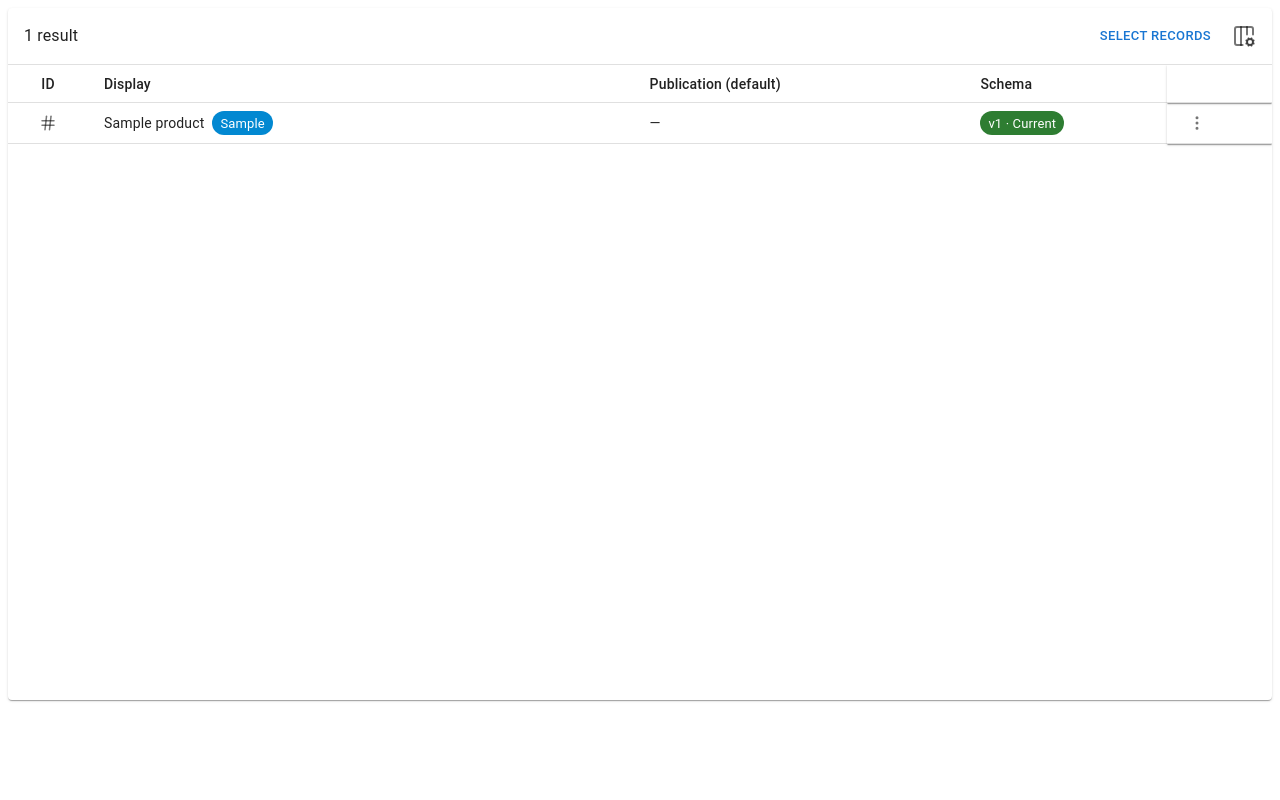
it: ExplorerResultsTable › keeps the confirmation open with an error when deletion fails
The image size is (1280, 800).
What coordinates should you click on to do the following:
click the button named "Record actions for Sample product"
I would click on:
 (1197, 123)
Its box is [1183,109,1211,137].
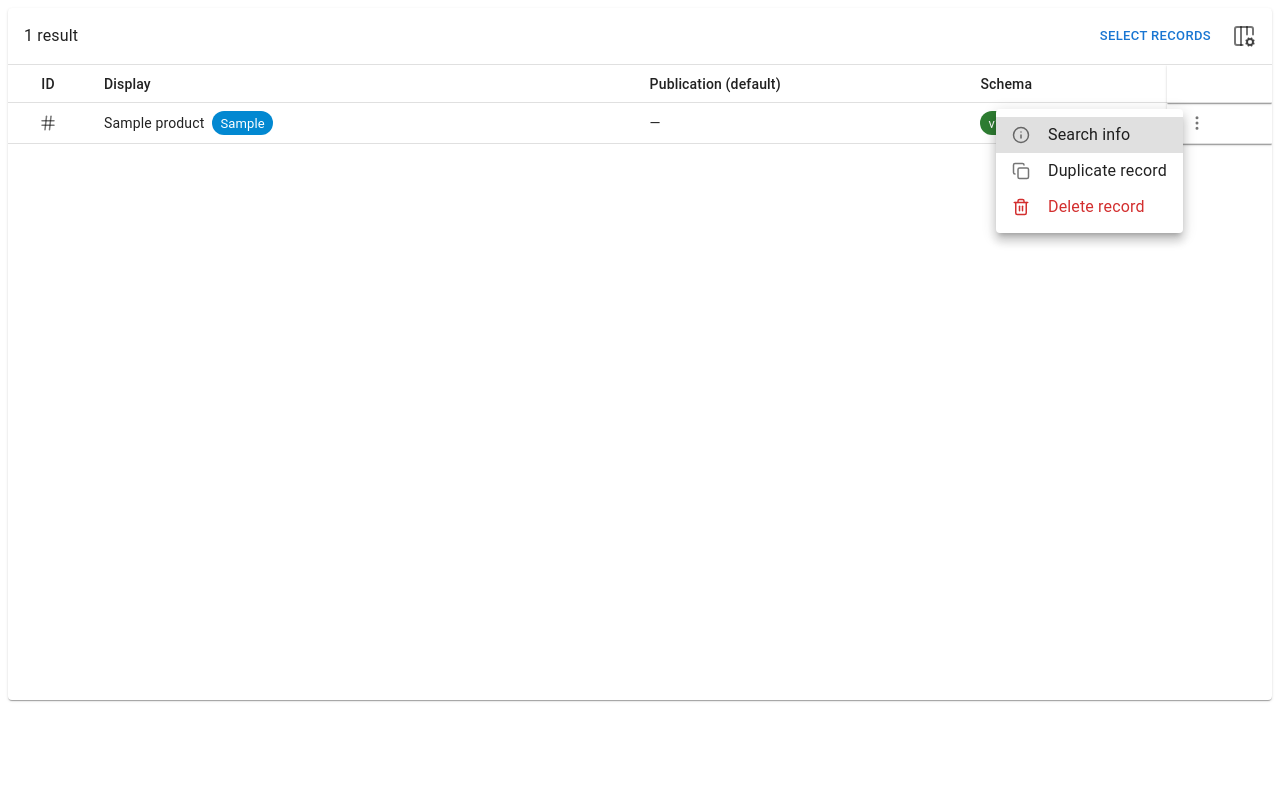
What coordinates should you click on to do the following:
click the menu item "Delete record"
I would click on:
 (1078, 206)
Its box is [1012,197,1145,216].
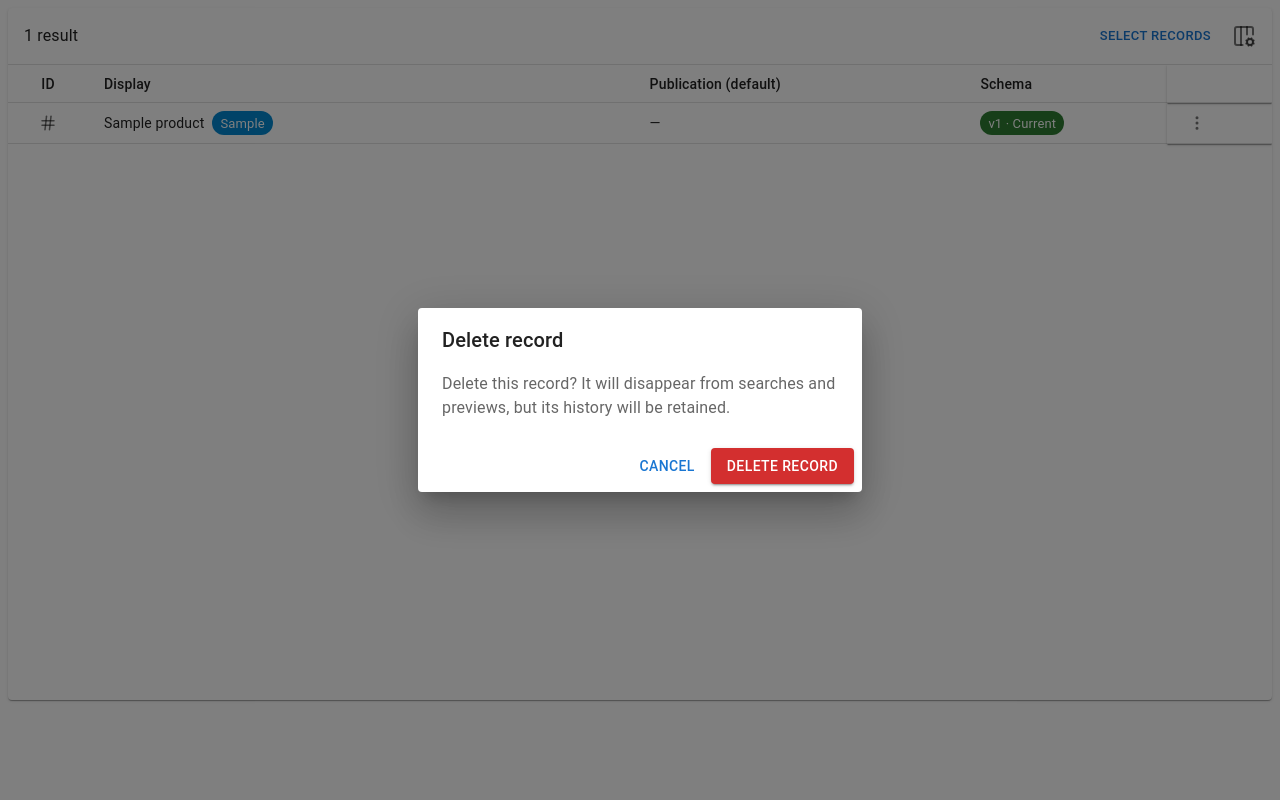
What coordinates should you click on to do the following:
click the button "Delete record"
I would click on:
 (782, 466)
Its box is [711,448,854,484].
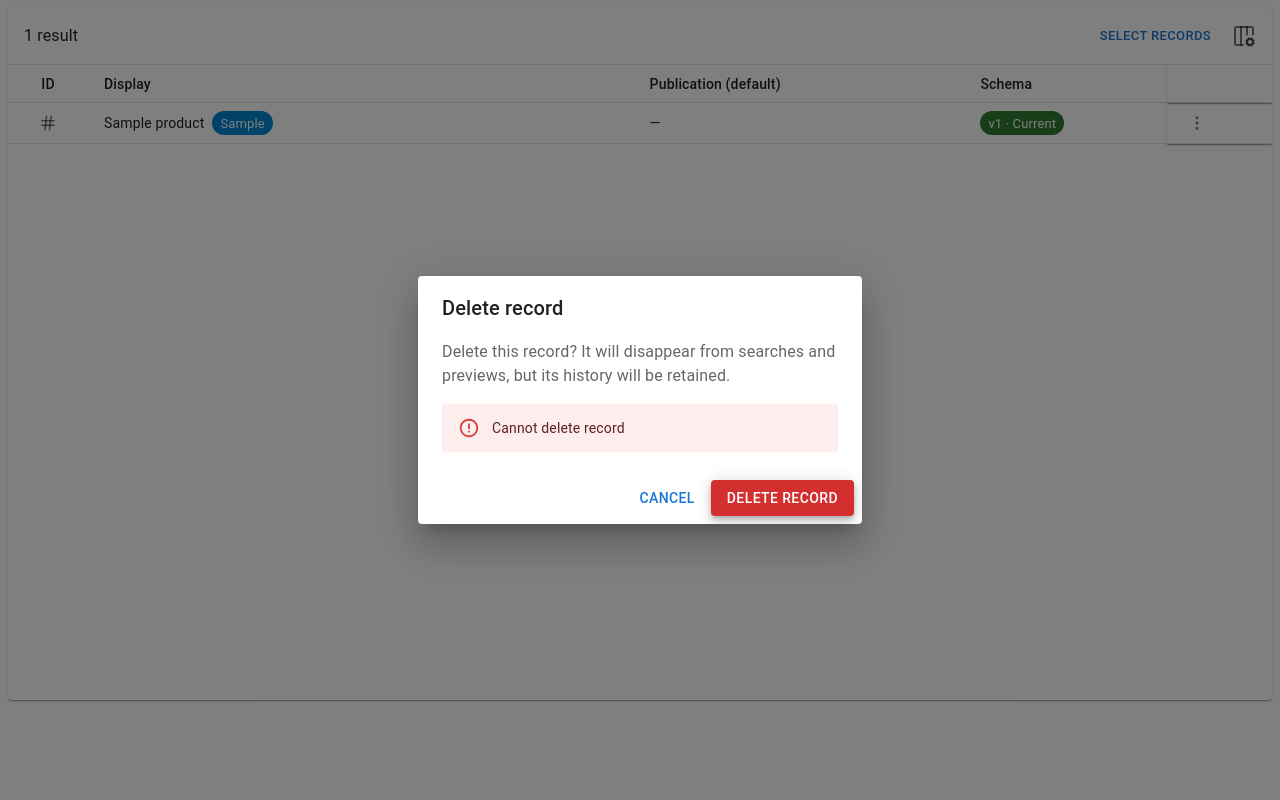
expect the dialog is shown: met, box [418,276,862,524]
expect the text "Cannot delete record" is shown: met, box [492,420,625,436]
